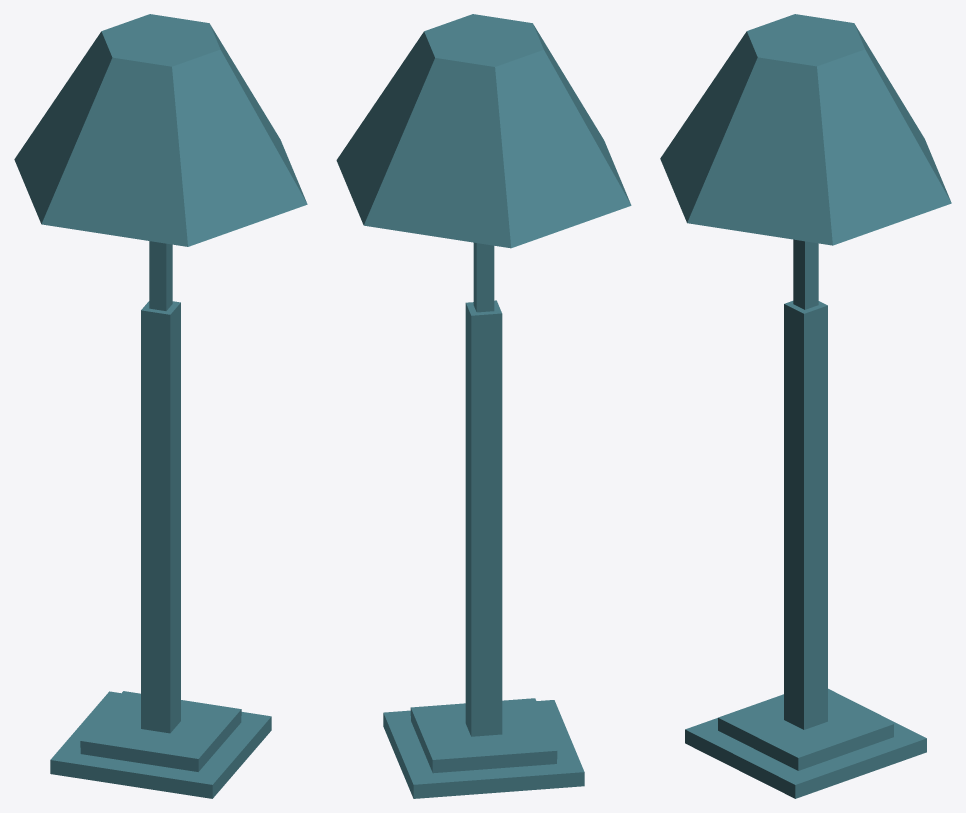
The model's file is Lamp.fbx.
3 renders of one model, left to right at view 1: azimuth 30°, elevation 25°; view 2: azimuth 150°, elevation 25°; view 3: azimuth 270°, elevation 25°, orthographic.
Visible parts, largest first — view 1: Prop_Lamp_05; view 2: Prop_Lamp_05; view 3: Prop_Lamp_05.
Part boxes in pixels (left/top/right/bottom): Prop_Lamp_05: left=14, top=14, right=307, bottom=798; Prop_Lamp_05: left=336, top=14, right=631, bottom=798; Prop_Lamp_05: left=660, top=14, right=951, bottom=798.
Bounding box in the file's own units: 52.91 × 135 × 50.48.
